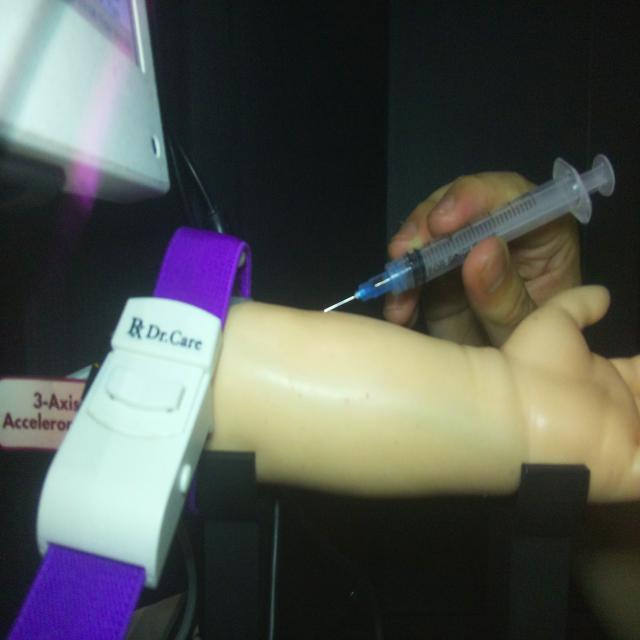18 degrees: (322, 150, 616, 315)
